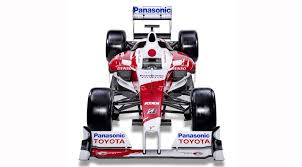FormulaOneCar: (75, 4, 228, 167)
